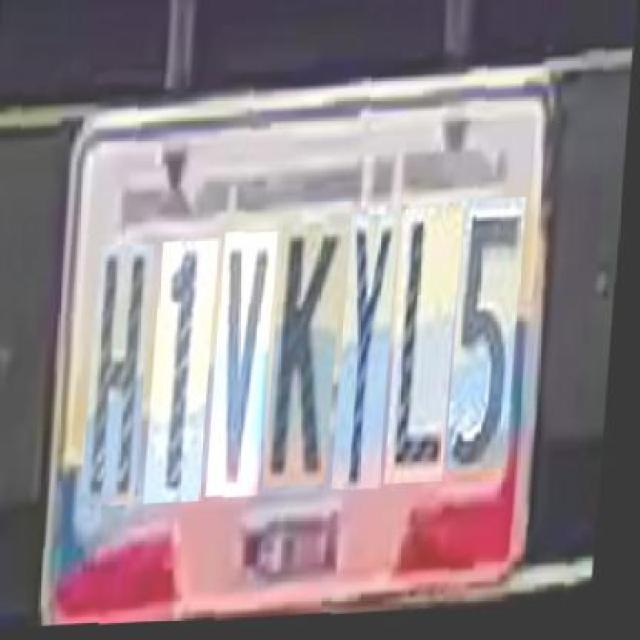1: (152, 240, 222, 505)
5: (452, 197, 530, 471)
h: (89, 244, 158, 507)
k: (272, 223, 348, 488)
l: (392, 207, 466, 484)
v: (214, 232, 281, 498)
y: (340, 213, 402, 490)
